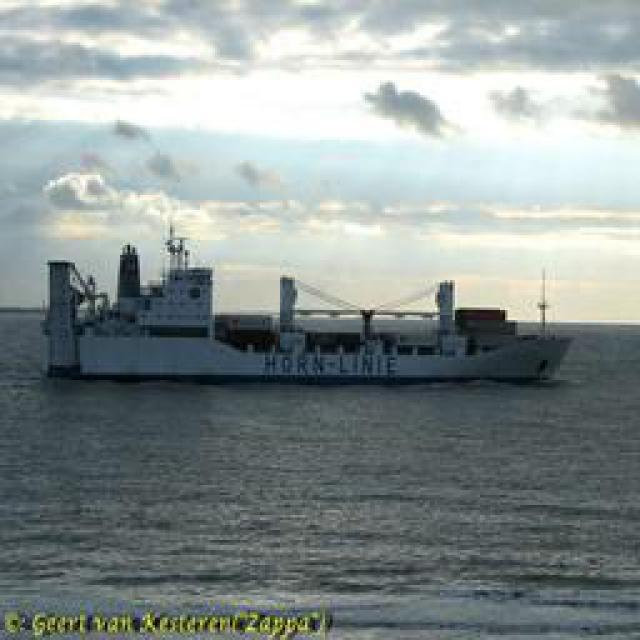Ship: (43, 243, 571, 391)
